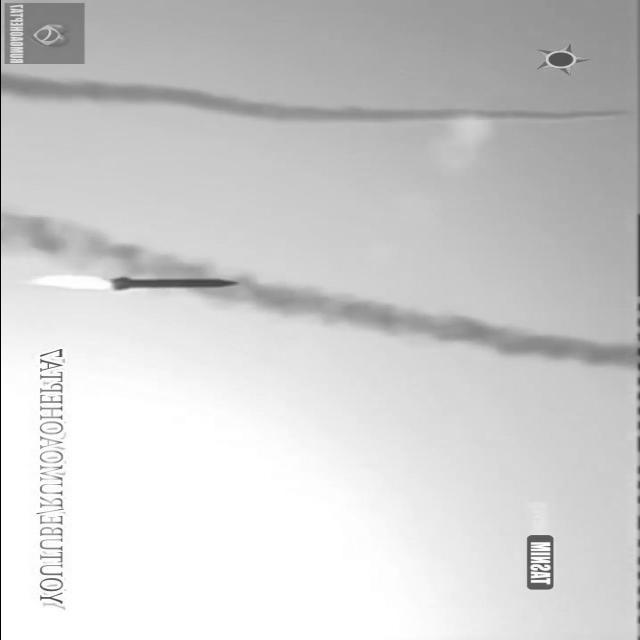Missile: (94, 270, 242, 294)
